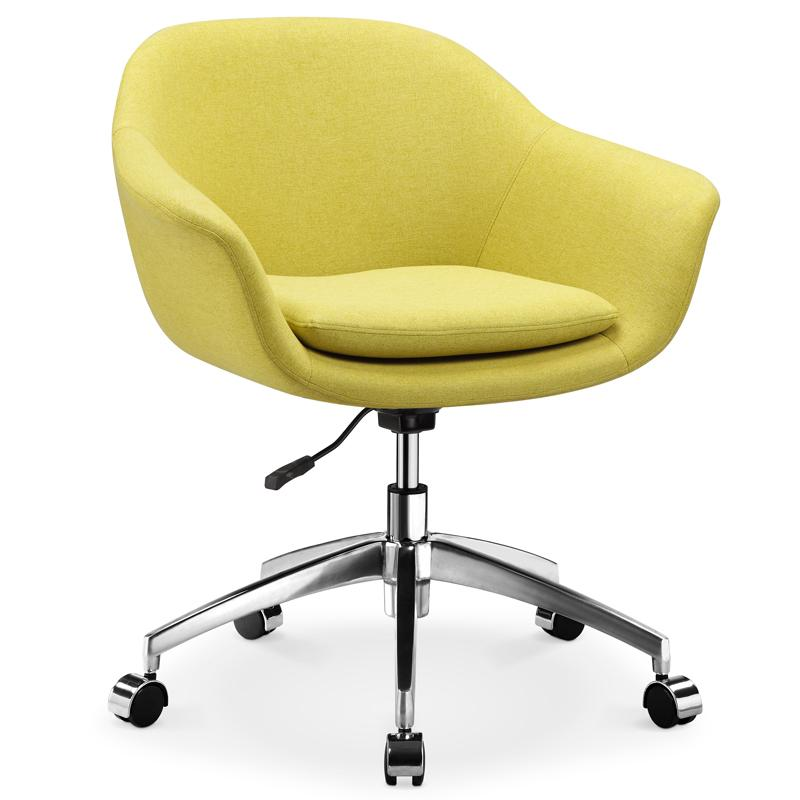chairs: (99, 14, 707, 789)
